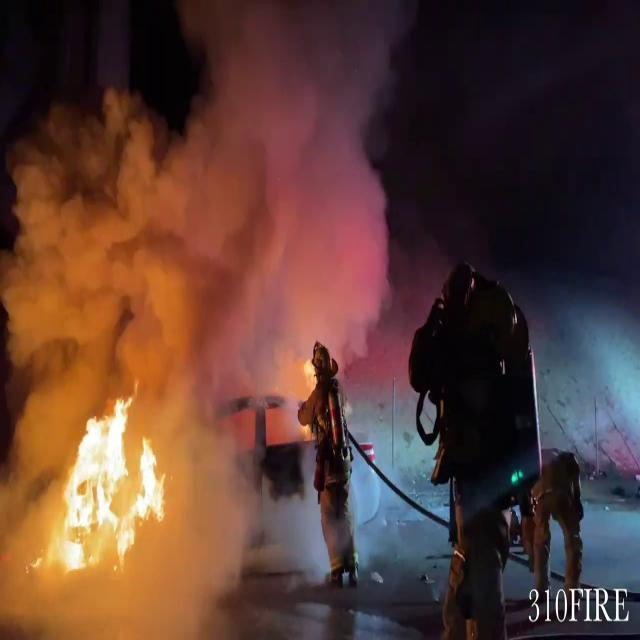Fire: (22, 391, 170, 599)
Smoke: (0, 1, 428, 392)
